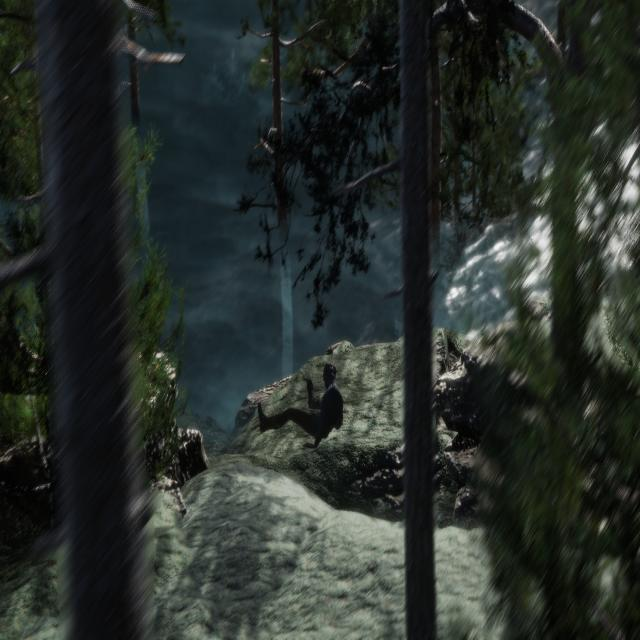Human: (253, 360, 349, 476)
